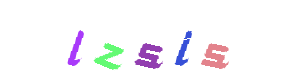L: (69, 0, 149, 80), (143, 0, 223, 80)
S: (107, 0, 187, 80), (172, 0, 252, 80)
Z: (83, 0, 163, 80)
